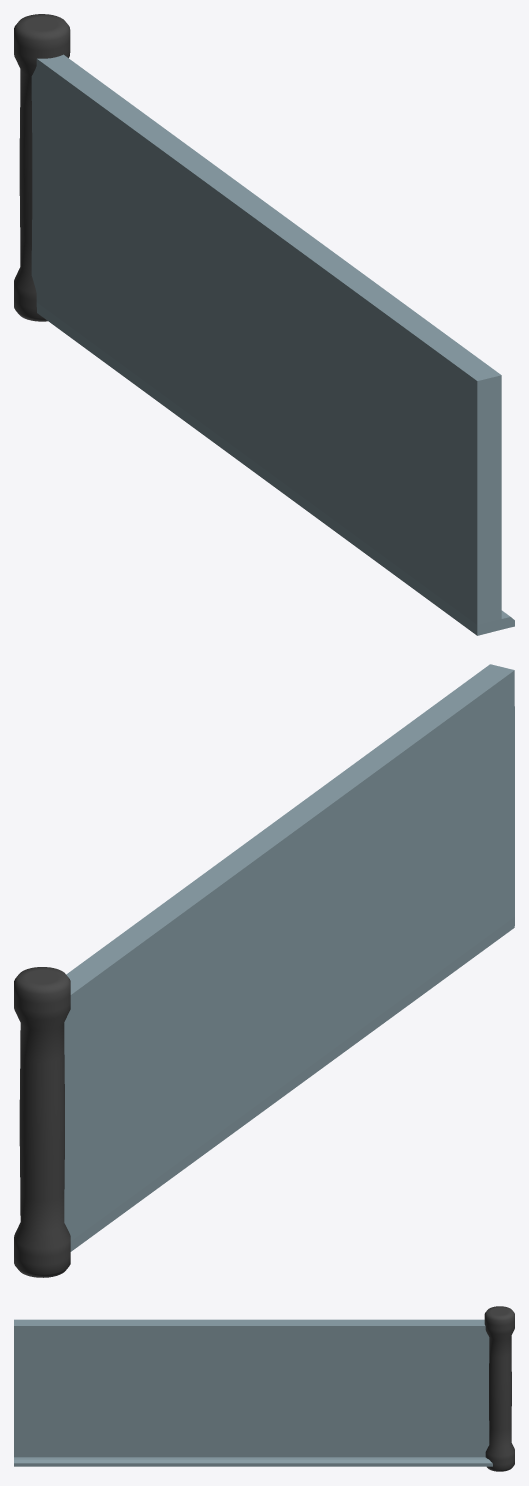
Rendered from big wall line 1 pillar.fbx.
The picture shows the model from 3 angles, top to bottom: view 1: azimuth 30°, elevation 25°; view 2: azimuth 150°, elevation 25°; view 3: azimuth 270°, elevation 25°; orthographic projection. The views are drawn at different scales.
Parts seen in each view (by area): view 1: line_wall_big_1_pillar; view 2: line_wall_big_1_pillar; view 3: line_wall_big_1_pillar.
Boxes of the visible parts, <box> form: line_wall_big_1_pillar: <box>14,14,514,635</box>; line_wall_big_1_pillar: <box>14,664,514,1277</box>; line_wall_big_1_pillar: <box>14,1306,514,1471</box>.
Bounding box in the file's own units: 157 × 881 × 2588.
